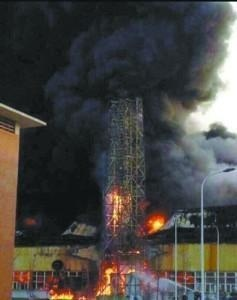fire: (48, 261, 133, 300), (107, 187, 129, 226), (143, 213, 165, 232)
